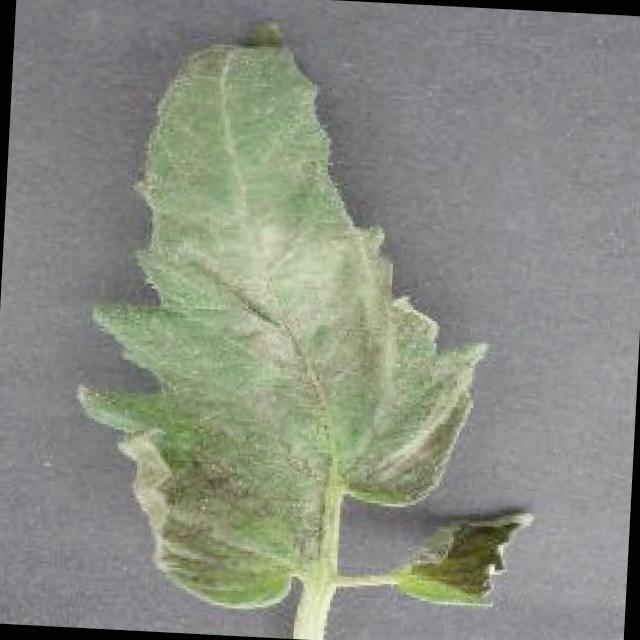Tomato late blight leaf: (64, 11, 500, 625), (397, 502, 539, 612)
